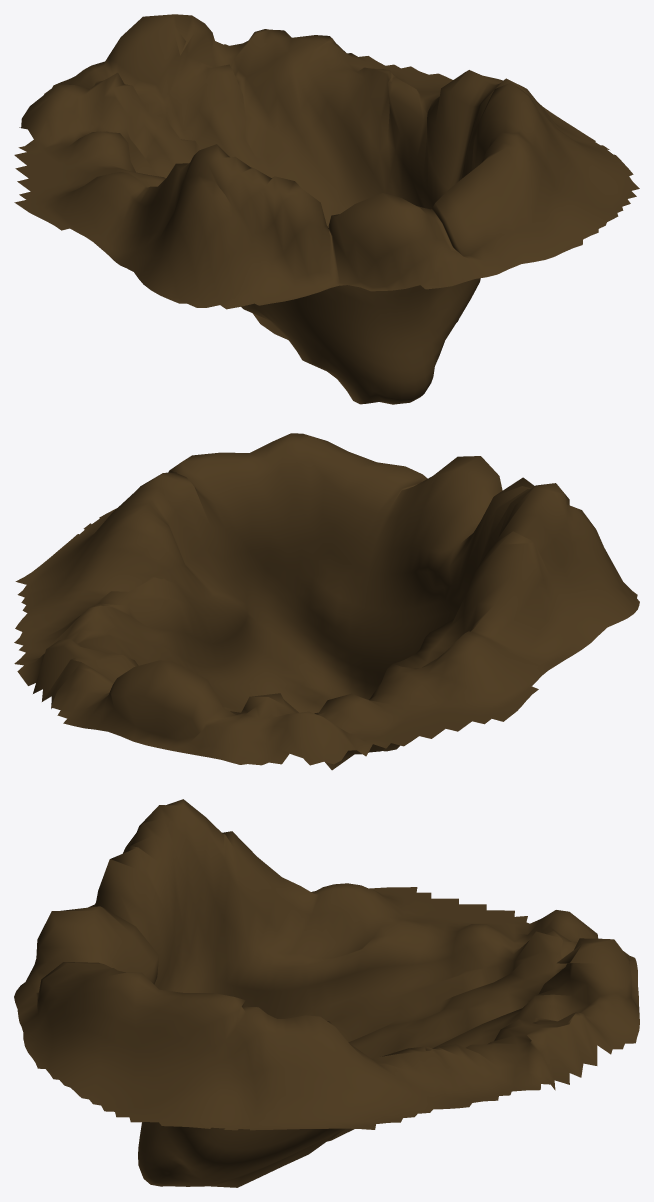
Rendered from hole.fbx.
3 views of the same model, one above another, from view 1: azimuth 30°, elevation 25°; view 2: azimuth 150°, elevation 25°; view 3: azimuth 270°, elevation 25° (orthographic). The views are drawn at different scales.
Visible parts, largest first — view 1: pPlane1; view 2: pPlane1; view 3: pPlane1.
Part boxes in pixels (x1,y1,x2,y2): pPlane1: (14, 14, 639, 404); pPlane1: (14, 433, 639, 770); pPlane1: (14, 799, 639, 1187).
Bounding box in the file's own units: 246 × 138 × 267.
